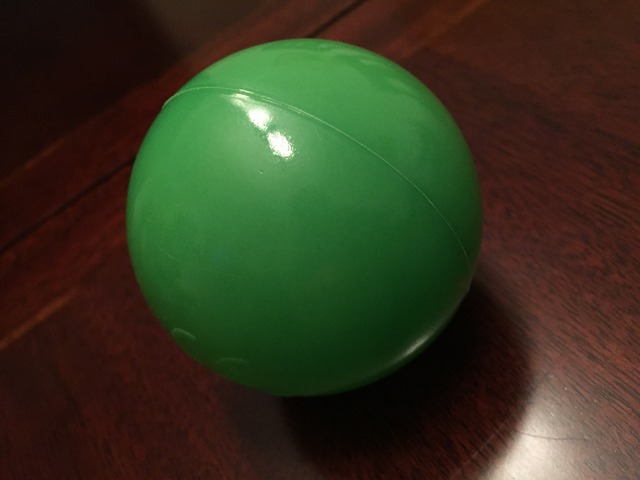Ball: (127, 38, 484, 390)
